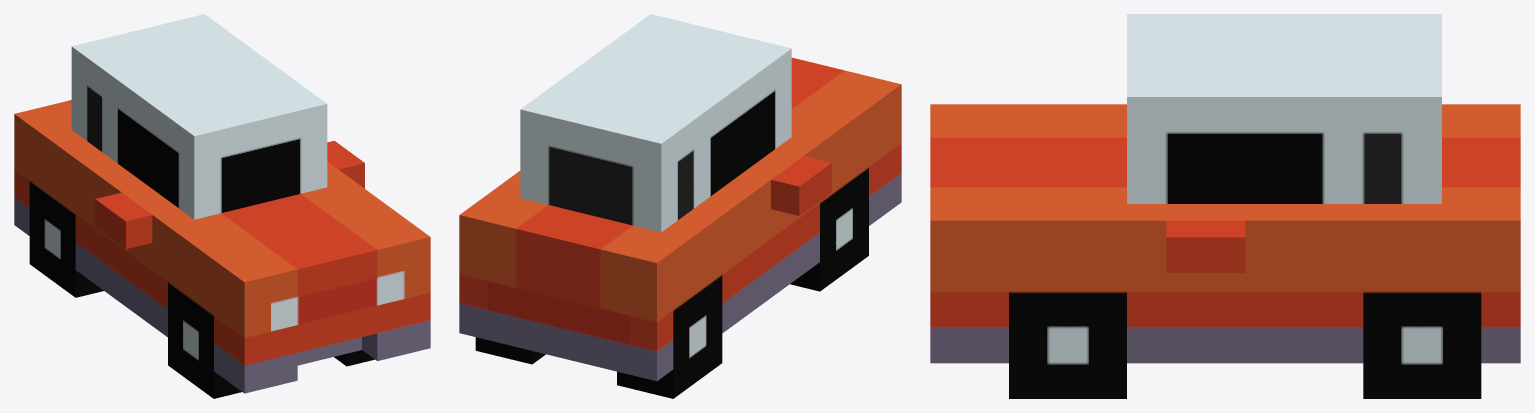
The model's file is OrangeCar.fbx.
3 renders of one model, left to right at view 1: azimuth 30°, elevation 25°; view 2: azimuth 150°, elevation 25°; view 3: azimuth 270°, elevation 25°, orthographic. The views are drawn at different scales.
Visible parts, largest first — view 1: Sedan; view 2: Sedan; view 3: Sedan.
Boxes of the visible parts, x1,y1,x2,y2 form: Sedan: (14, 14, 430, 398); Sedan: (459, 14, 901, 398); Sedan: (930, 14, 1520, 398).
Bounding box in the file's own units: 108 × 96 × 180.
